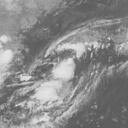cyclone: (24, 35, 87, 109)
